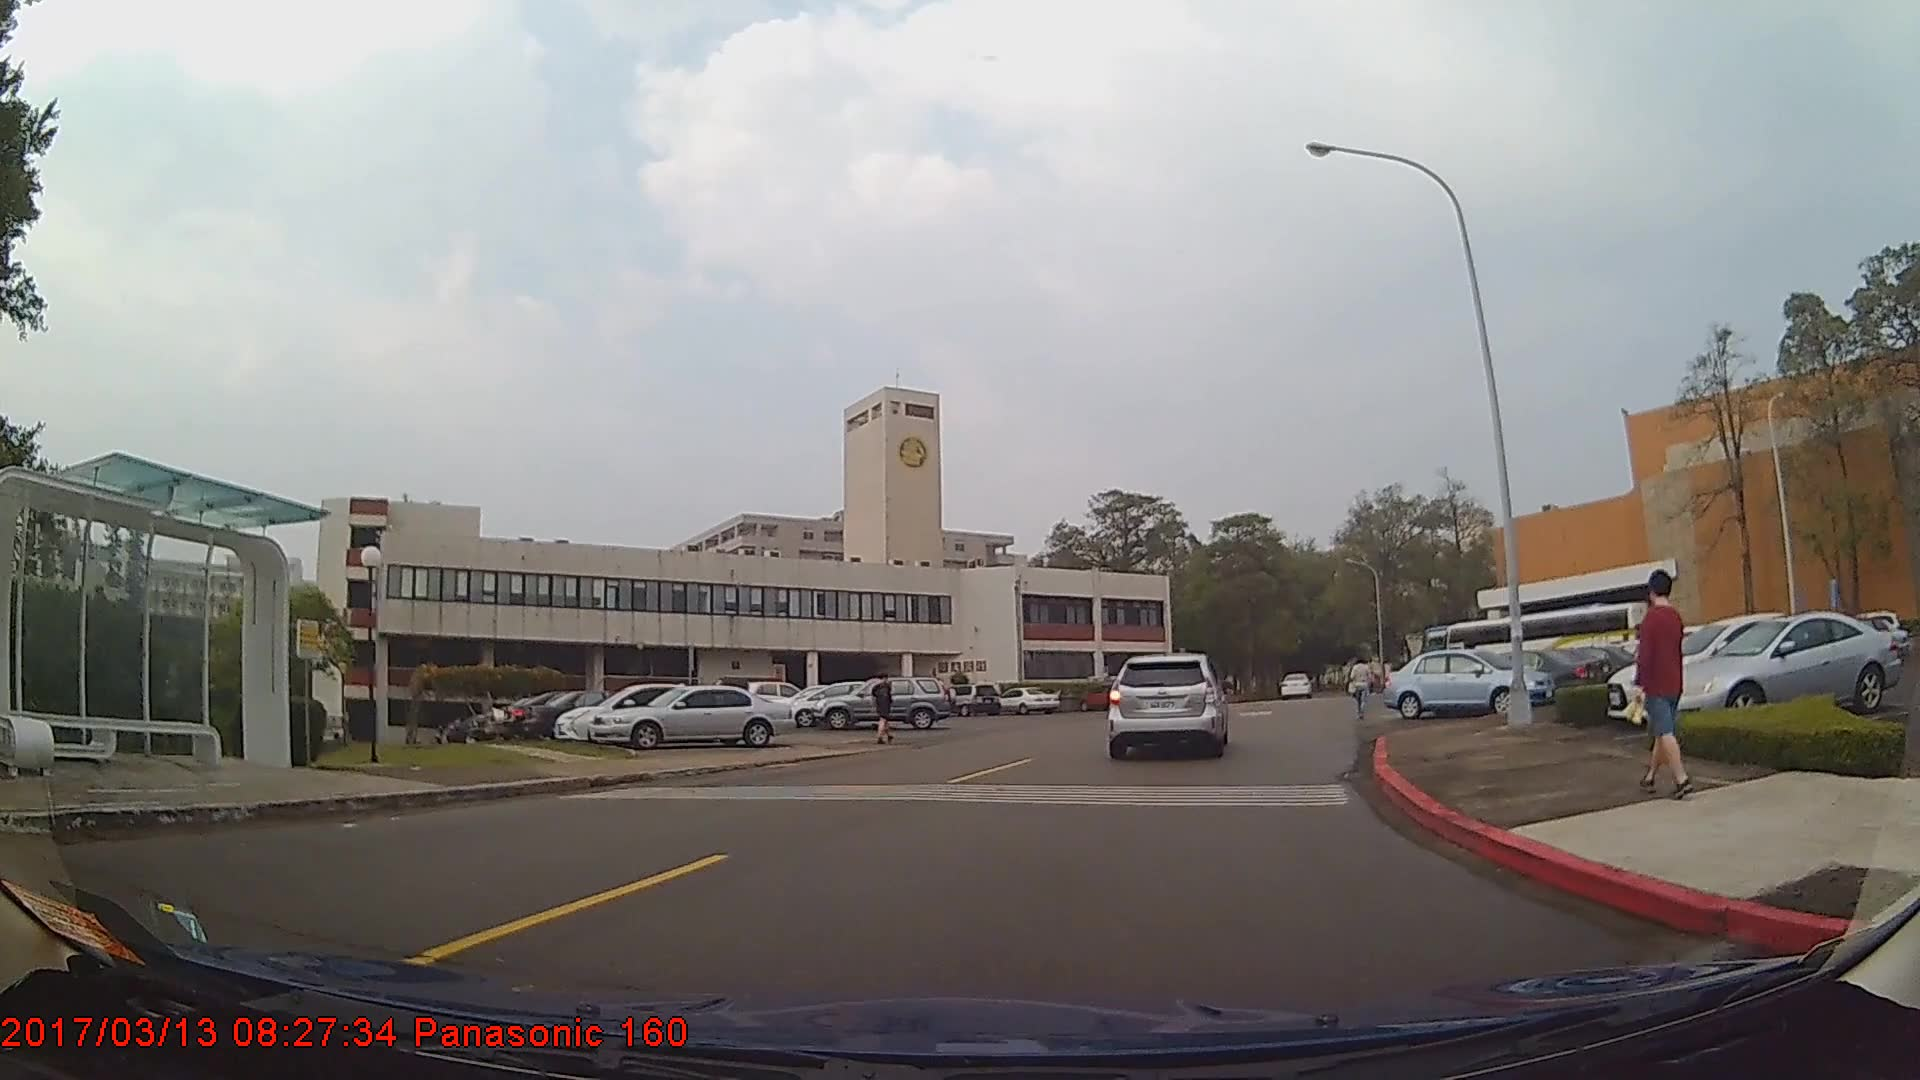pedestrian: (1635, 567, 1689, 796), (870, 674, 895, 747), (1349, 660, 1376, 727)
vehicle: (1603, 609, 1856, 720), (1664, 609, 1901, 723), (586, 683, 793, 749), (1377, 646, 1557, 720), (1109, 652, 1226, 760), (551, 680, 755, 741), (1443, 645, 1606, 698), (519, 690, 666, 743), (811, 676, 952, 729), (936, 682, 1001, 717), (992, 686, 1060, 717), (1277, 671, 1309, 700)
